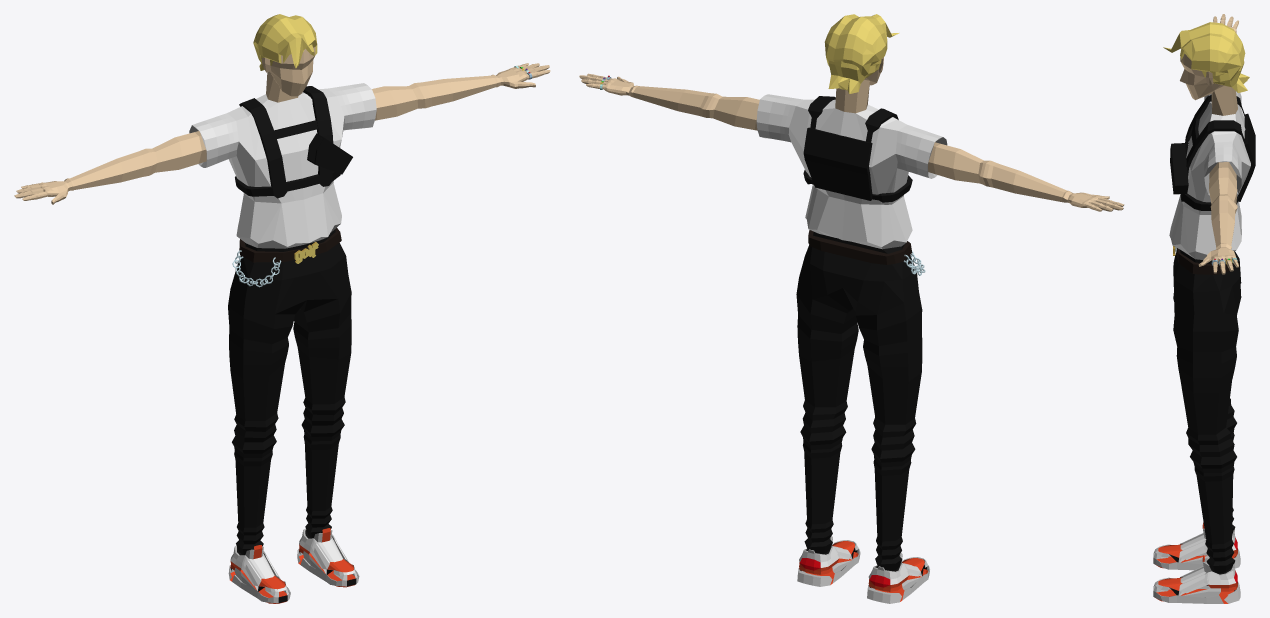
The model's file is PROTAGimport.fbx.
3 renders of one model, left to right at view 1: azimuth 30°, elevation 25°; view 2: azimuth 150°, elevation 25°; view 3: azimuth 270°, elevation 25°, orthographic. The views are drawn at different scales.
Visible parts, largest first — view 1: Cylinder.002, Cylinder.008, Cube; view 2: Cylinder.002, Cylinder.008; view 3: Cylinder.002, Cylinder.008, Cube.
Boxes of the visible parts, box(x1,y1,x2,y2) form: Cylinder.002: box(14, 47, 550, 603); Cylinder.008: box(253, 14, 317, 70); Cube: box(307, 133, 352, 174); Cylinder.002: box(579, 57, 1124, 603); Cylinder.008: box(824, 14, 899, 93); Cylinder.002: box(1153, 14, 1255, 603); Cylinder.008: box(1163, 22, 1249, 92); Cube: box(1170, 143, 1188, 194).
Size of the model in its own units: 1061 by 1058 by 177.
